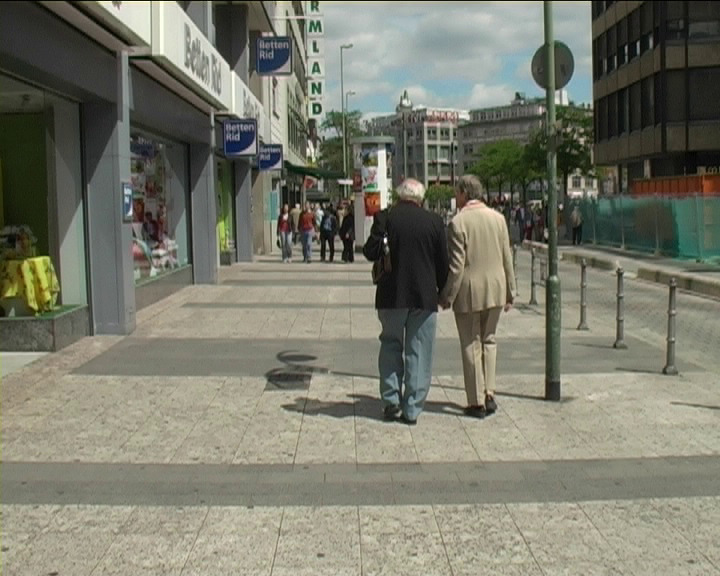deflection: (445, 173, 516, 254)
